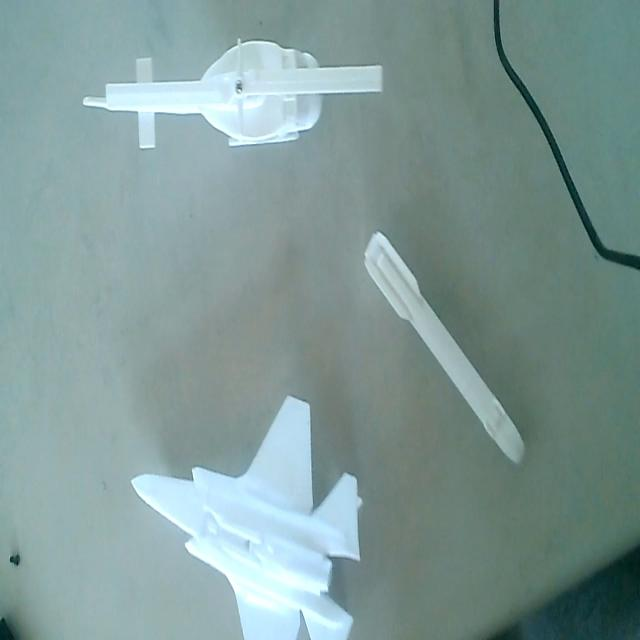Helicopter: (82, 34, 386, 164)
Jet: (127, 391, 361, 640)
Rocket: (360, 225, 527, 470)
